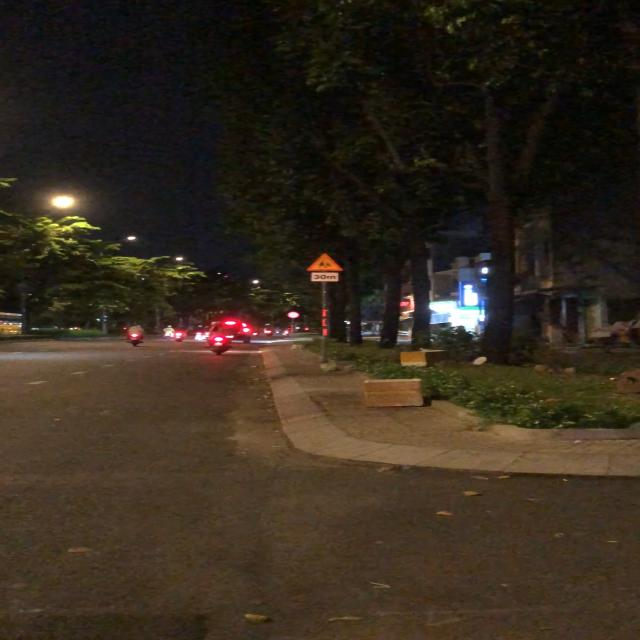Bien bao tre em: (305, 253, 346, 272)
